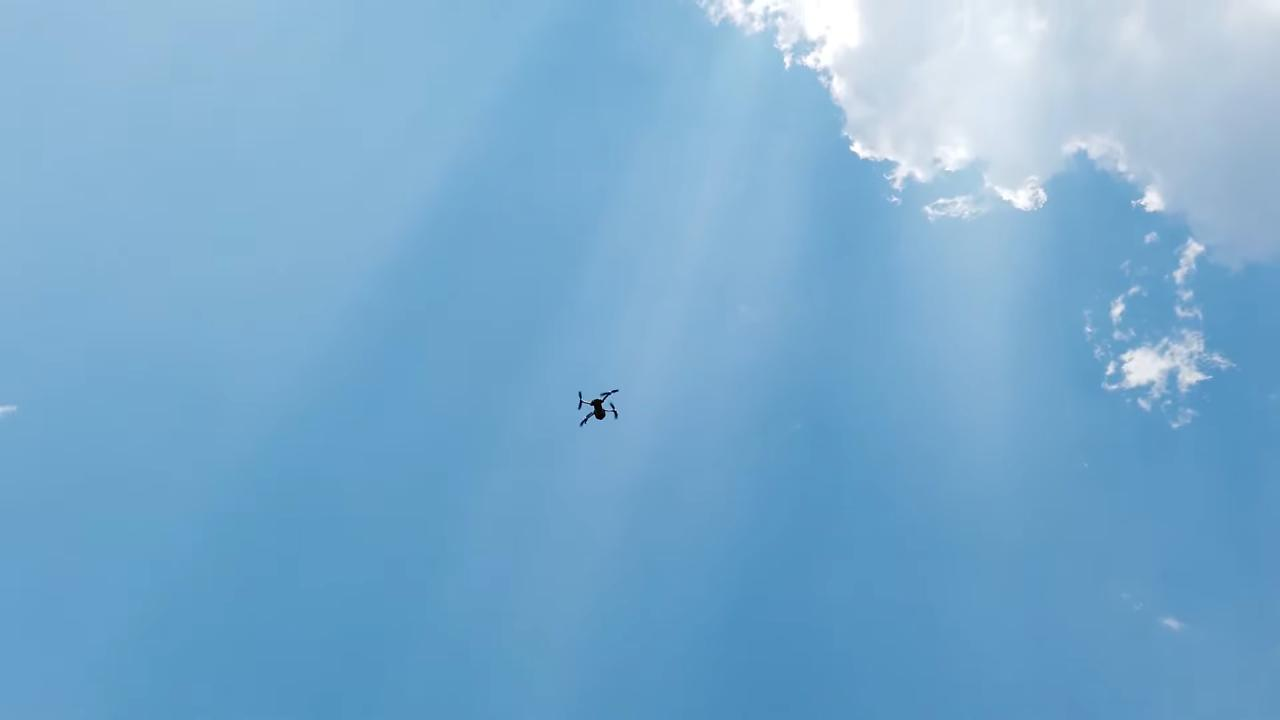Drone: (566, 378, 630, 434)
